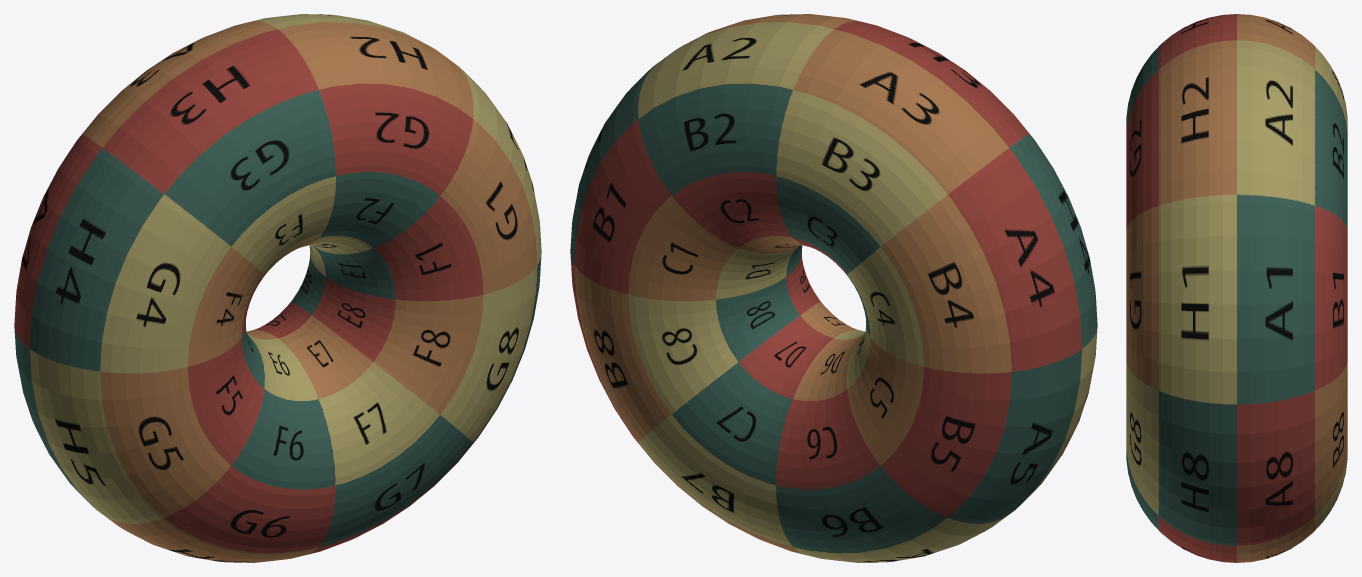
The model's file is texture_torus_R3_r23.glb.
3 renders of one model, left to right at view 1: azimuth 30°, elevation 25°; view 2: azimuth 150°, elevation 25°; view 3: azimuth 270°, elevation 25°, orthographic. The views are drawn at different scales.
Parts seen in each view (by area): view 1: world; view 2: world; view 3: world.
Part boxes in pixels (left/top/right/bottom): world: left=14, top=14, right=541, bottom=562; world: left=570, top=14, right=1097, bottom=562; world: left=1126, top=14, right=1347, bottom=562.
Bounding box in the file's own units: 20.13 × 20.09 × 8.12.
1 material, 1 textured.
